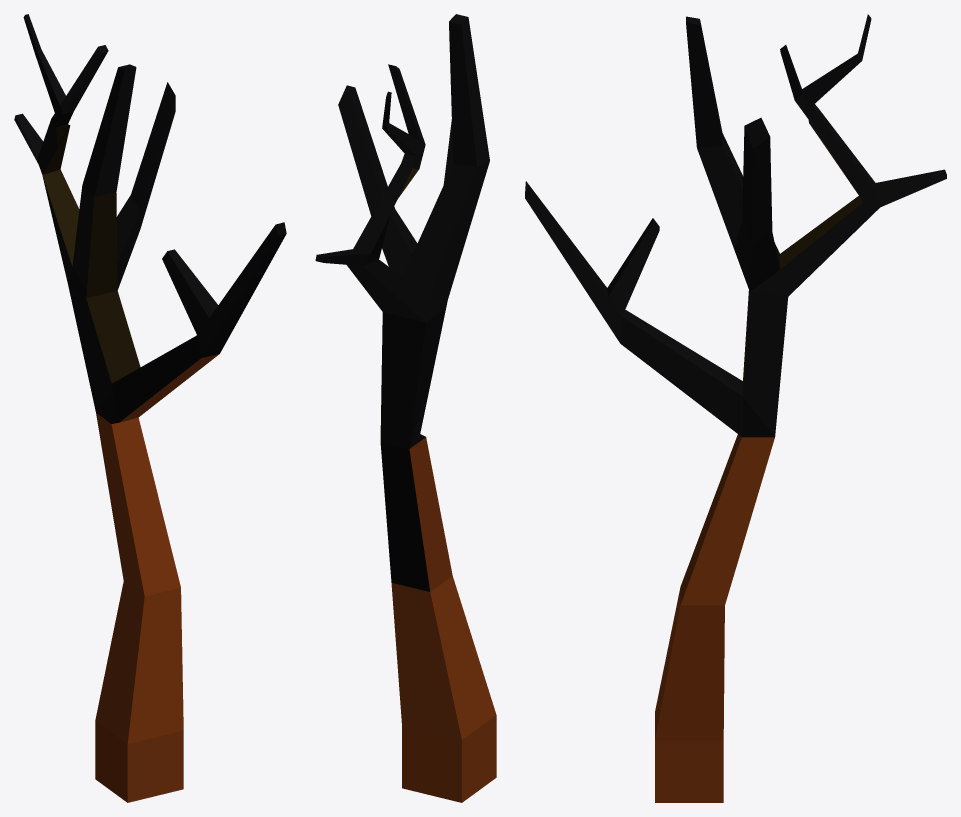
File: Burnt_Tree2.fbx
3 renders of one model, left to right at view 1: azimuth 30°, elevation 25°; view 2: azimuth 150°, elevation 25°; view 3: azimuth 270°, elevation 25°, orthographic. The views are drawn at different scales.
Visible parts, largest first — view 1: Cube; view 2: Cube; view 3: Cube.
Part boxes in pixels (x1,y1,x2,y2): Cube: (14,14,286,802); Cube: (315,14,496,802); Cube: (525,14,946,802).
Bounding box in the file's own units: 143 × 884 × 443.
